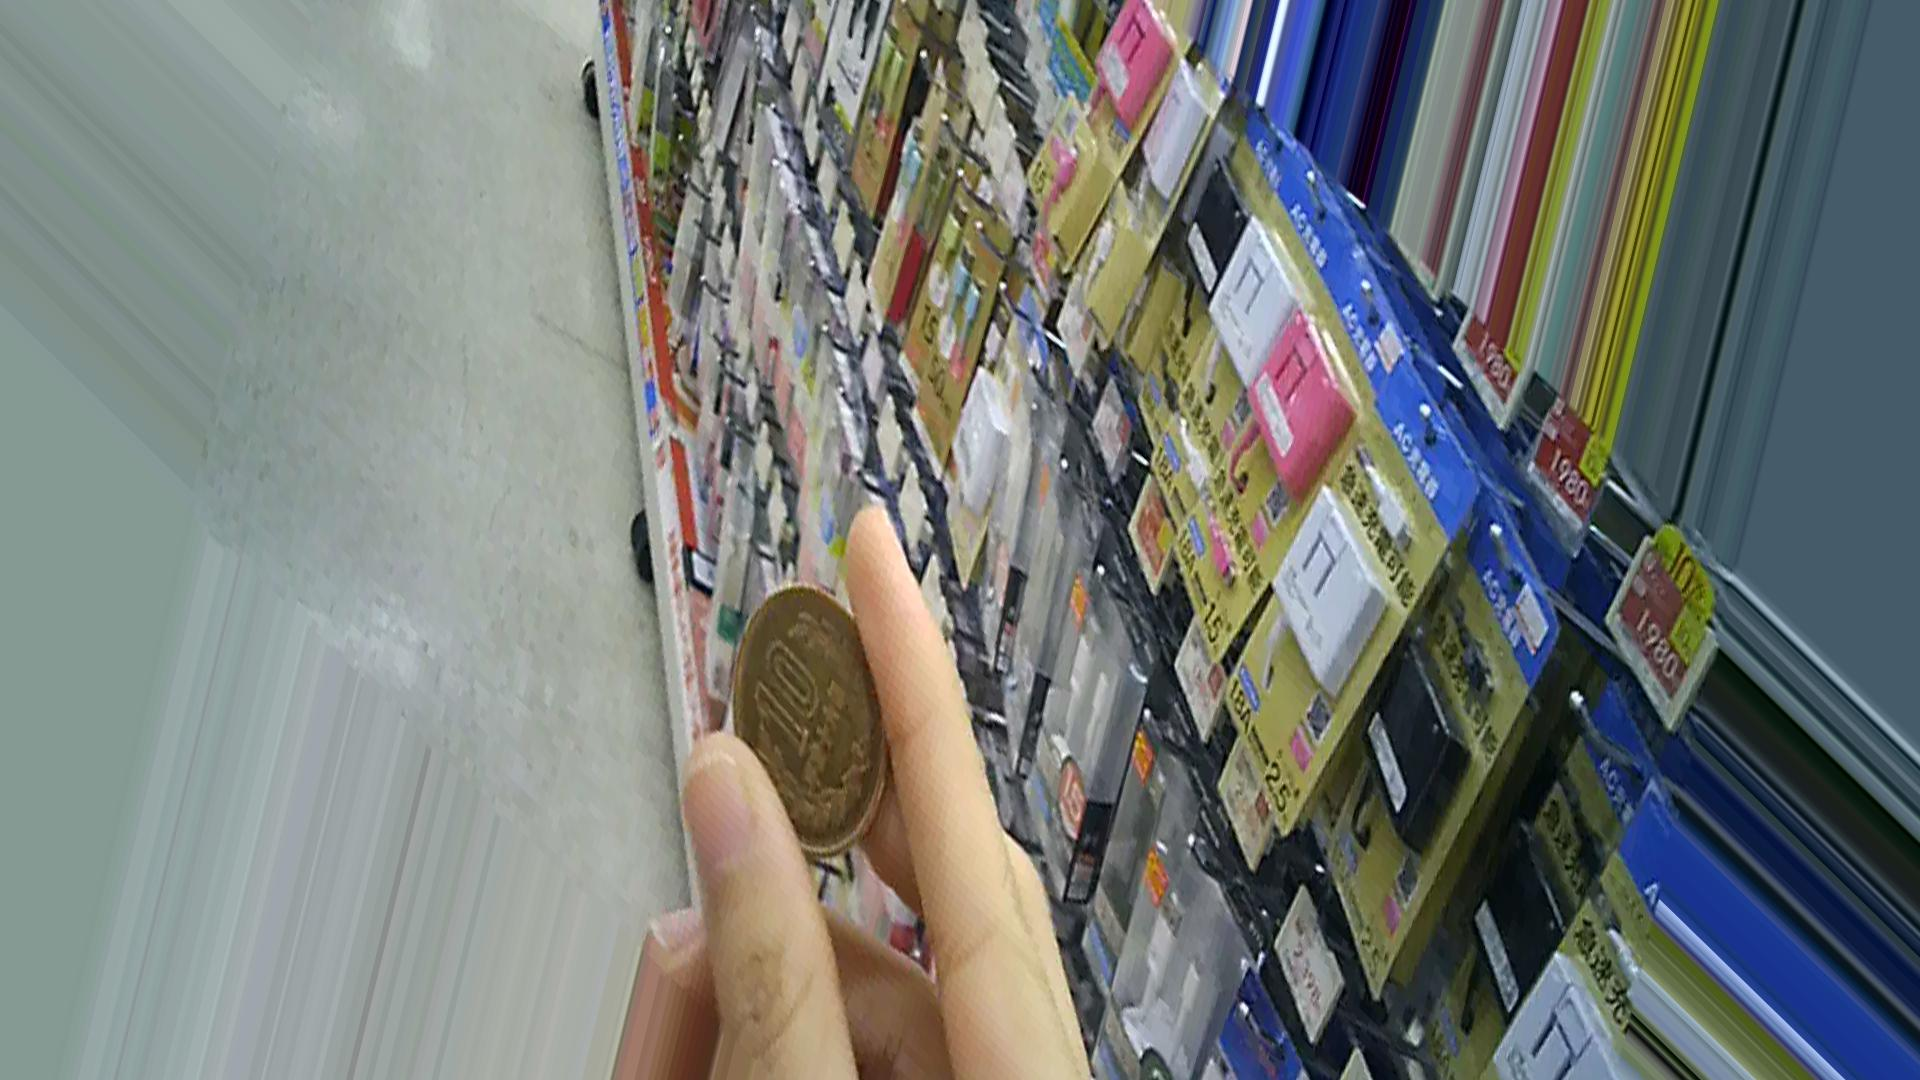10 Yen: (729, 585, 895, 857)
